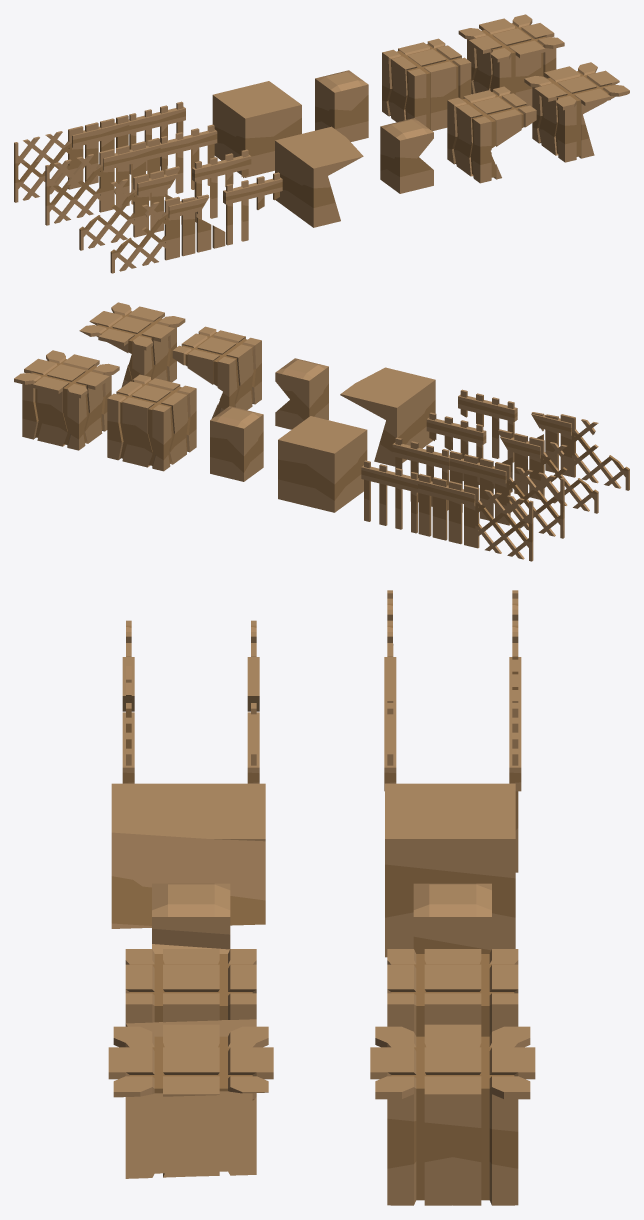
File: JembatanPager.glb
3 renders of one model, top to bottom at view 1: azimuth 30°, elevation 25°; view 2: azimuth 150°, elevation 25°; view 3: azimuth 270°, elevation 25°, orthographic. The views are drawn at different scales.
Visible parts, largest first — view 1: Dirt_Cube.071, Dirt_Cube.092, Dirt_Cube.070, Dirt_Cube.077, Dirt_Cube.088, Dirt_Cube.085, Dirt_Cube.086, Dirt_Cube.075, Dirt_Cube.090, Dirt_Cube.081, Dirt_Cube.082, Dirt_Cube.076 (+8 smaller); view 2: Dirt_Cube.070, Dirt_Cube.071, Dirt_Cube.077, Dirt_Cube.088, Dirt_Cube.085, Dirt_Cube.092, Dirt_Cube.075, Dirt_Cube.082, Dirt_Cube.086, Dirt_Cube.084, Dirt_Cube.081, Dirt_Cube.080 (+8 smaller); view 3: Dirt_Cube.070, Dirt_Cube.092, Dirt_Cube.088, Dirt_Cube.077, Dirt_Cube.071, Dirt_Cube.085, Dirt_Cube.075, Dirt_Cube.086, Dirt_Cube.084, Dirt_Cube.083, Dirt_Cube.093, Dirt_Cube.094.
Boxes of the visible parts, bbox=[...] form: Dirt_Cube.071: bbox=[382, 38, 471, 131]; Dirt_Cube.092: bbox=[524, 62, 629, 162]; Dirt_Cube.070: bbox=[458, 14, 564, 106]; Dirt_Cube.077: bbox=[212, 81, 301, 177]; Dirt_Cube.088: bbox=[275, 126, 363, 227]; Dirt_Cube.085: bbox=[447, 86, 536, 183]; Dirt_Cube.086: bbox=[380, 118, 433, 193]; Dirt_Cube.075: bbox=[315, 70, 368, 141]; Dirt_Cube.090: bbox=[167, 194, 225, 259]; Dirt_Cube.081: bbox=[102, 138, 160, 211]; Dirt_Cube.082: bbox=[71, 115, 129, 188]; Dirt_Cube.076: bbox=[45, 151, 103, 225]; Dirt_Cube.070: bbox=[14, 350, 119, 450]; Dirt_Cube.071: bbox=[107, 374, 196, 471]; Dirt_Cube.077: bbox=[278, 416, 367, 512]; Dirt_Cube.088: bbox=[340, 367, 435, 466]; Dirt_Cube.085: bbox=[172, 326, 261, 418]; Dirt_Cube.092: bbox=[79, 302, 185, 387]; Dirt_Cube.075: bbox=[210, 406, 263, 481]; Dirt_Cube.082: bbox=[418, 473, 476, 547]; Dirt_Cube.086: bbox=[275, 358, 328, 429]; Dirt_Cube.084: bbox=[361, 460, 418, 533]; Dirt_Cube.081: bbox=[449, 451, 507, 524]; Dirt_Cube.080: bbox=[475, 487, 533, 561]; Dirt_Cube.070: bbox=[370, 1024, 535, 1205]; Dirt_Cube.092: bbox=[108, 1024, 273, 1178]; Dirt_Cube.088: bbox=[111, 783, 265, 928]; Dirt_Cube.077: bbox=[385, 783, 515, 957]; Dirt_Cube.071: bbox=[387, 949, 518, 1036]; Dirt_Cube.085: bbox=[125, 949, 256, 1036]; Dirt_Cube.075: bbox=[413, 883, 491, 953]; Dirt_Cube.086: bbox=[152, 883, 230, 953]; Dirt_Cube.084: bbox=[509, 703, 521, 872]; Dirt_Cube.083: bbox=[384, 703, 396, 791]; Dirt_Cube.093: bbox=[122, 703, 134, 783]; Dirt_Cube.094: bbox=[247, 703, 259, 783].
Size of the model in its own units: 18.26 by 2.01 by 6.52.
